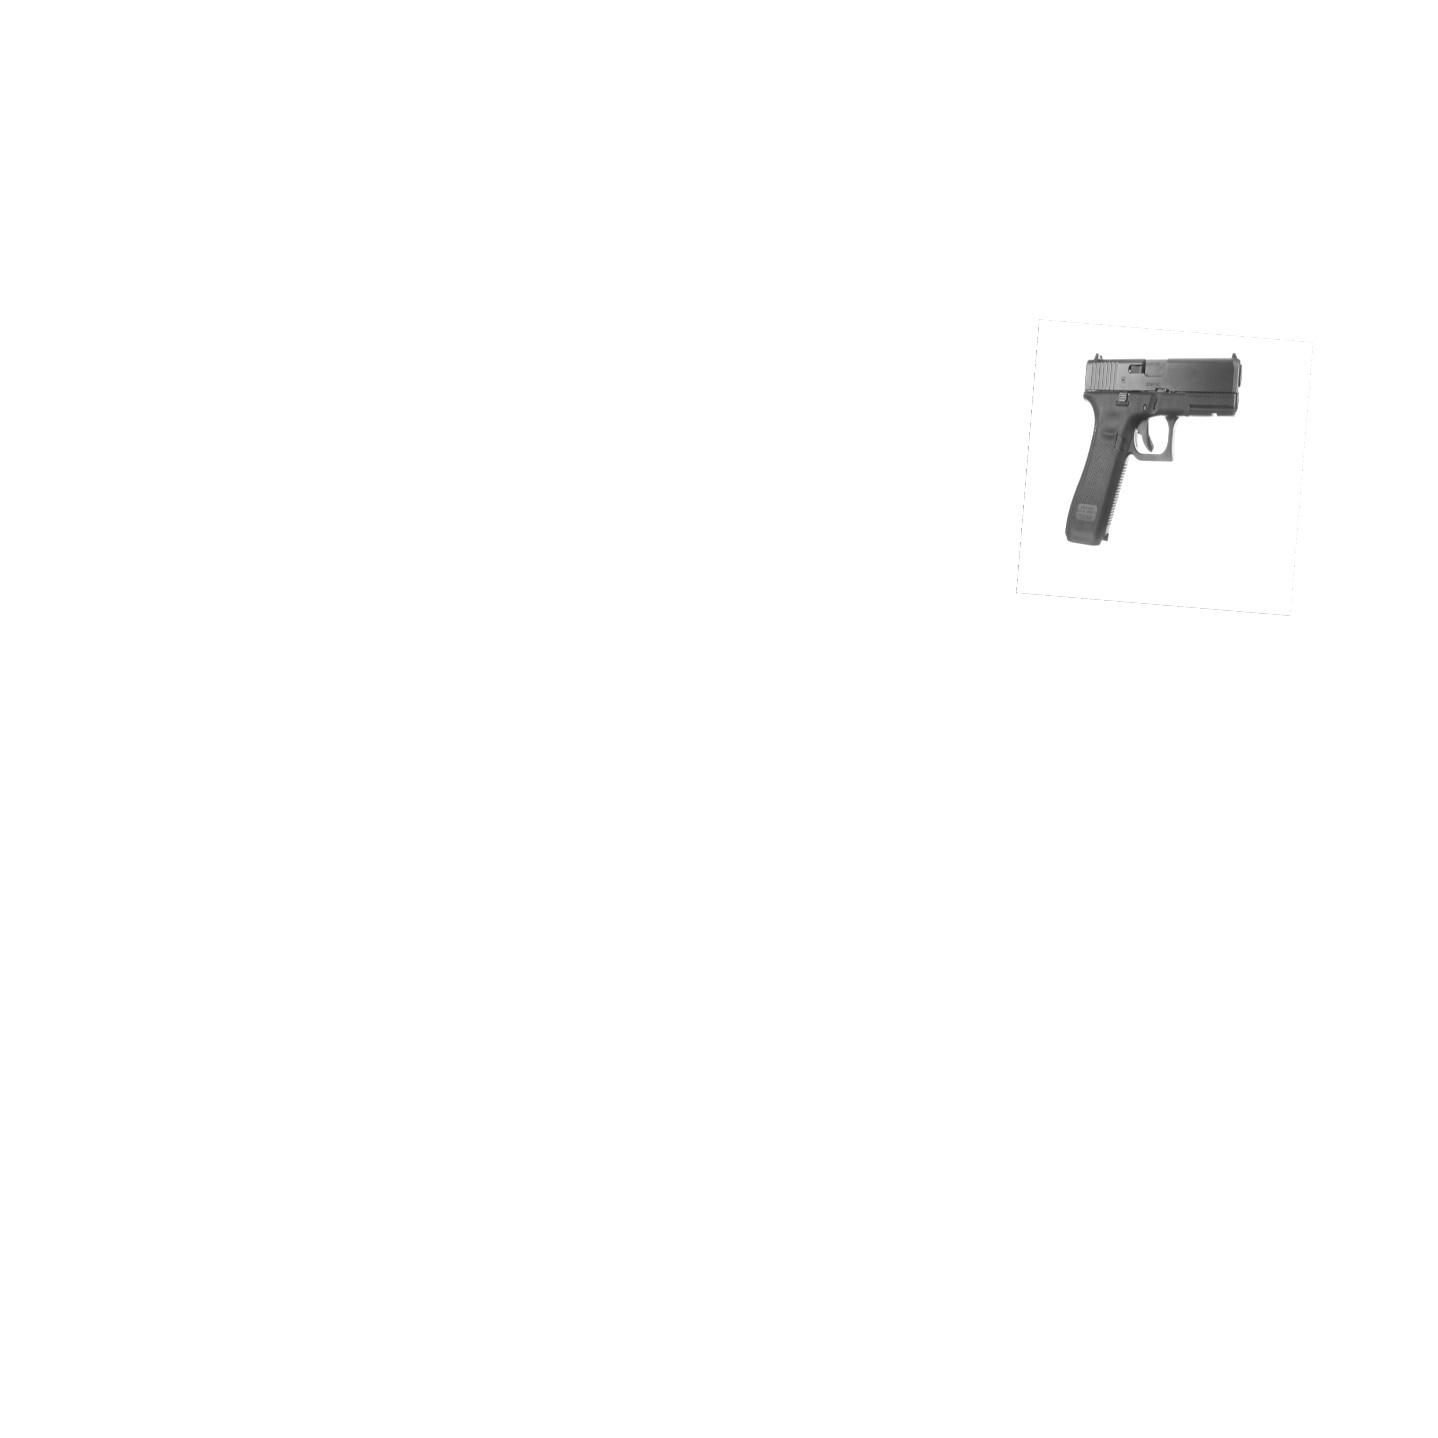gun: (1059, 346, 1251, 557)
